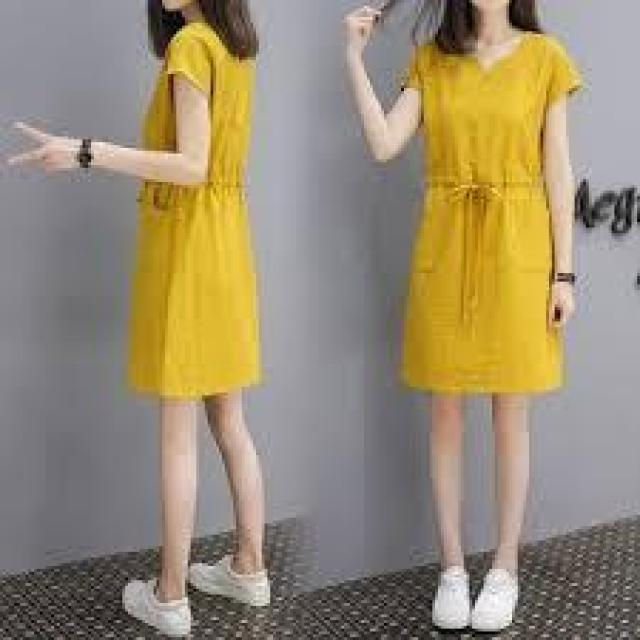dress: (400, 33, 578, 397), (125, 26, 265, 421)
